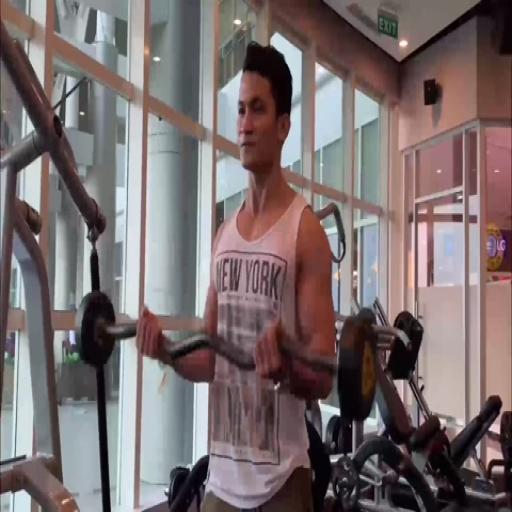exercise: (134, 40, 340, 510)
